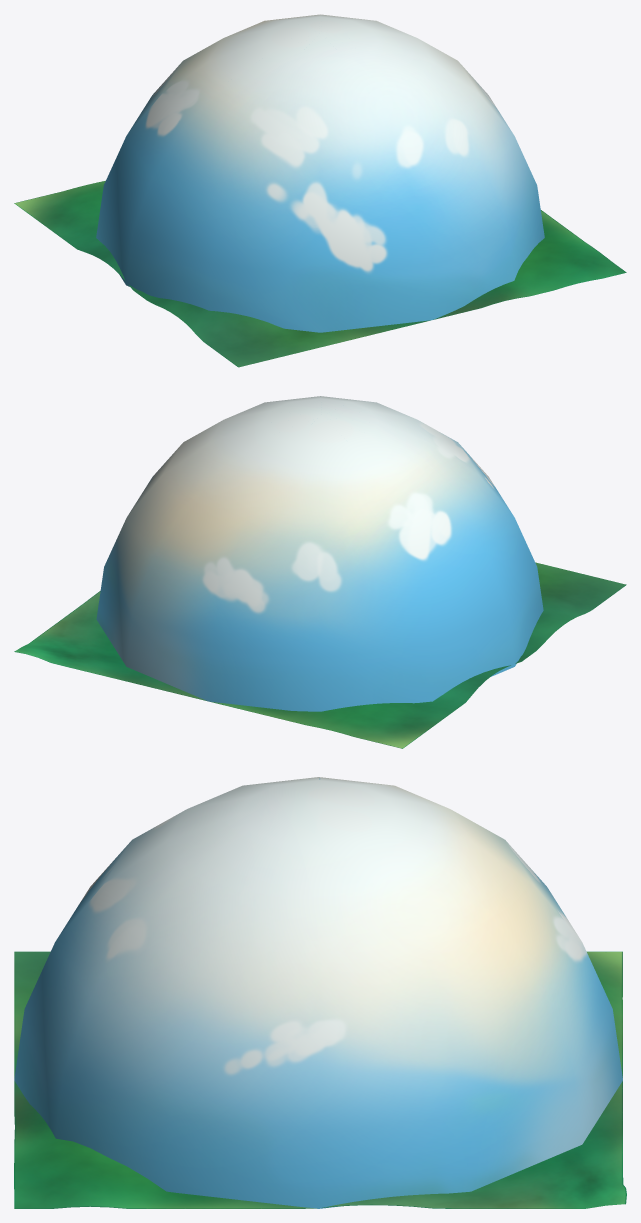
Rendered from outdoor_enviroment.fbx.
The picture shows the model from 3 angles, top to bottom: view 1: azimuth 30°, elevation 25°; view 2: azimuth 150°, elevation 25°; view 3: azimuth 270°, elevation 25°; orthographic projection. The views are drawn at different scales.
Parts seen in each view (by area): view 1: Sphere, Plane; view 2: Sphere, Plane; view 3: Sphere, Plane.
Part boxes in pixels (bbox=[...]): Sphere: bbox=[96, 14, 544, 332]; Plane: bbox=[14, 180, 626, 367]; Sphere: bbox=[96, 396, 543, 711]; Plane: bbox=[14, 562, 626, 748]; Sphere: bbox=[14, 777, 622, 1208]; Plane: bbox=[14, 951, 626, 1208].
Bounding box in the file's own units: 30000 × 15000 × 30201.
Materials: 2 (2 with a texture image).
